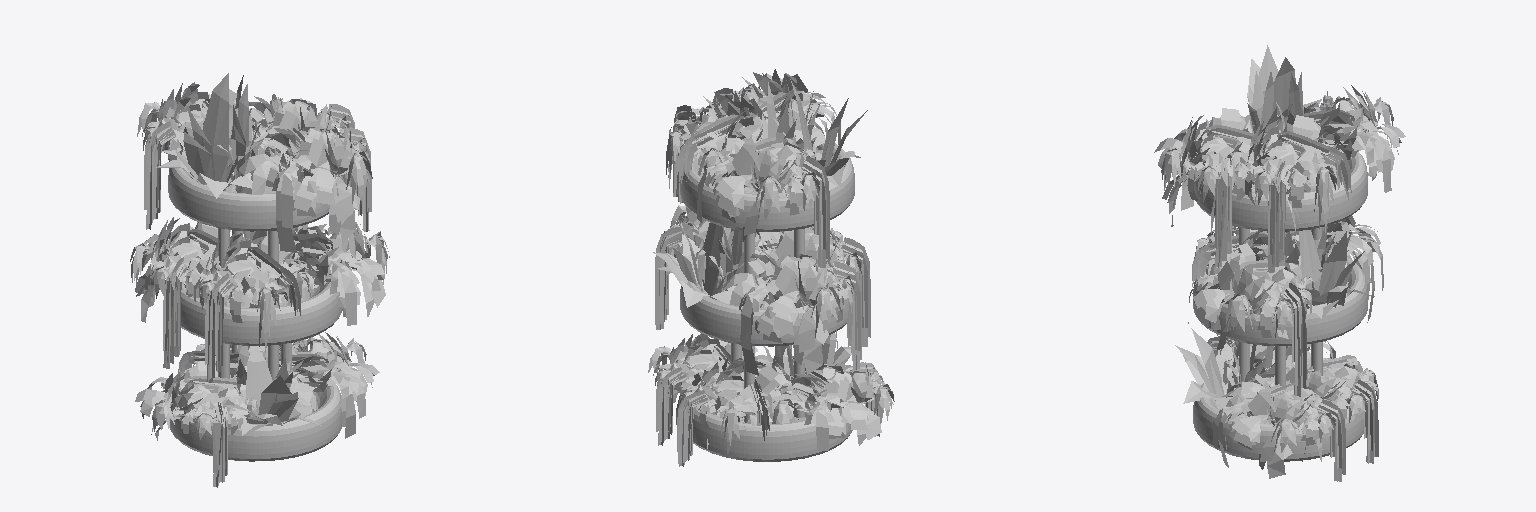
Rendered from Plantas.obj.
3 views of the same model, side by side, from view 1: azimuth 30°, elevation 25°; view 2: azimuth 150°, elevation 25°; view 3: azimuth 270°, elevation 25° (orthographic).
Visible parts, largest first — view 1: Plantas; view 2: Plantas; view 3: Plantas.
Part boxes in pixels (bbox=[...]): Plantas: bbox=[130, 73, 389, 487]; Plantas: bbox=[648, 69, 894, 466]; Plantas: bbox=[1154, 45, 1405, 481].
Size of the model in its own units: 3.87 by 6.1 by 3.73.